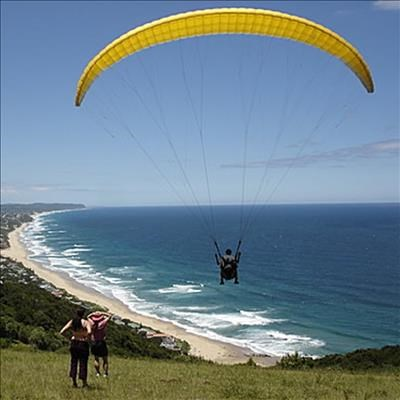Paraglider: (58, 3, 379, 125)
